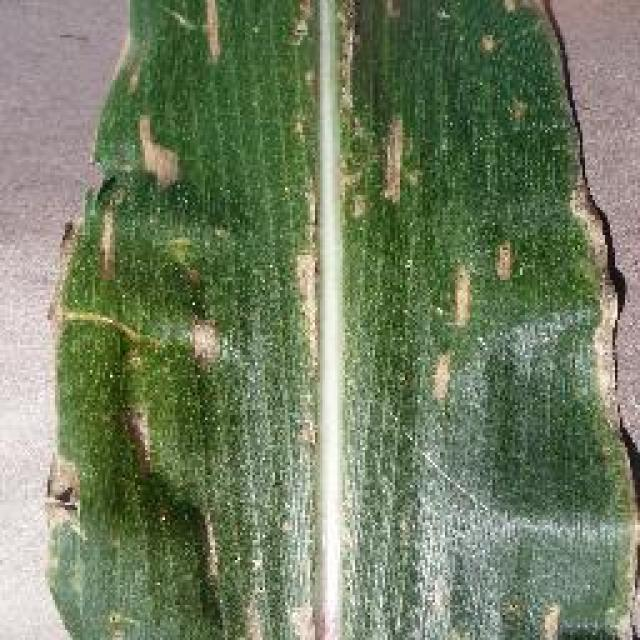Corn___Cercospora_leaf_spot Gray_leaf_spot: (52, 0, 608, 640)
